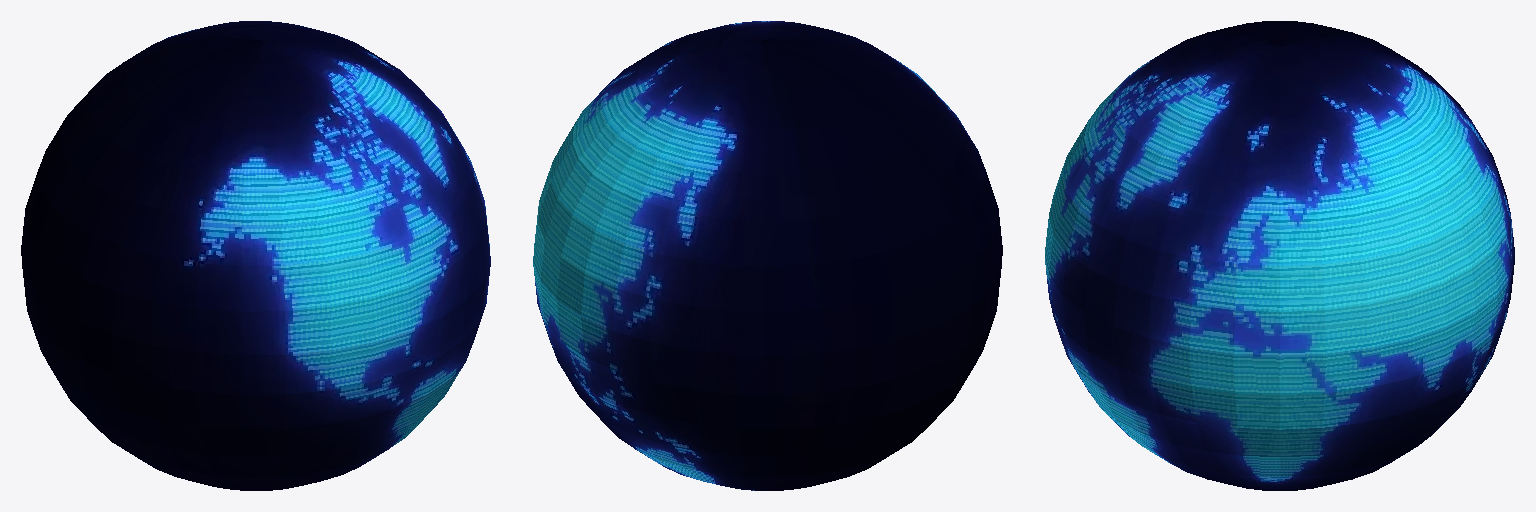
3 renders of one model, left to right at view 1: azimuth 30°, elevation 25°; view 2: azimuth 150°, elevation 25°; view 3: azimuth 270°, elevation 25°, orthographic.
Visible parts, largest first — view 1: Sphere; view 2: Sphere; view 3: Sphere.
Part boxes in pixels (x1,y1,x2,y2): Sphere: (21,21,490,490); Sphere: (533,21,1002,490); Sphere: (1045,21,1514,490).
Bounding box in the file's own units: 2 × 2 × 2.
Materials: 1 (1 with a texture image).